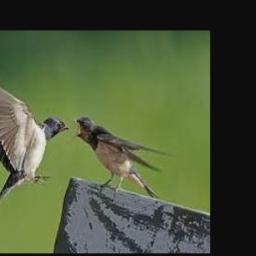Swallow: (0, 76, 69, 242), (73, 116, 174, 199)
